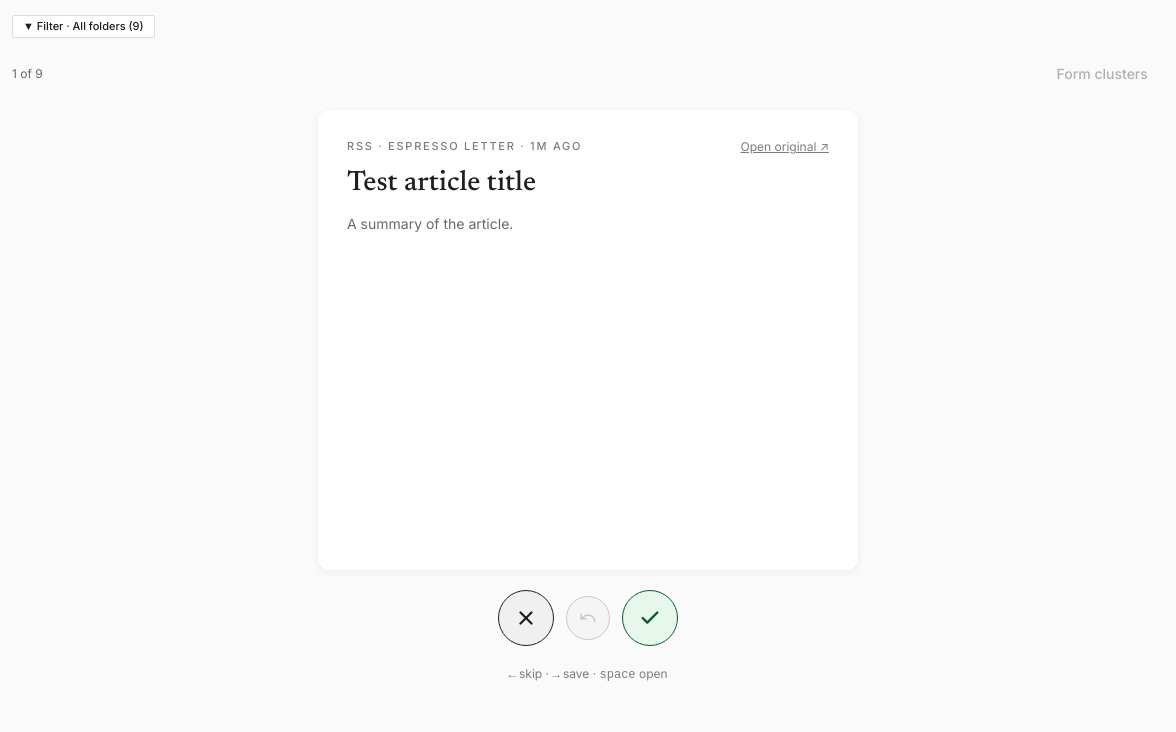
Scenario: ReaderClient - folder filter › shows folder list in popover when Filter button is clicked
The width and height of the screenshot is (1176, 732).
Click the button "▼ Filter · All folders (9)": (83, 27) [12, 15, 155, 38]
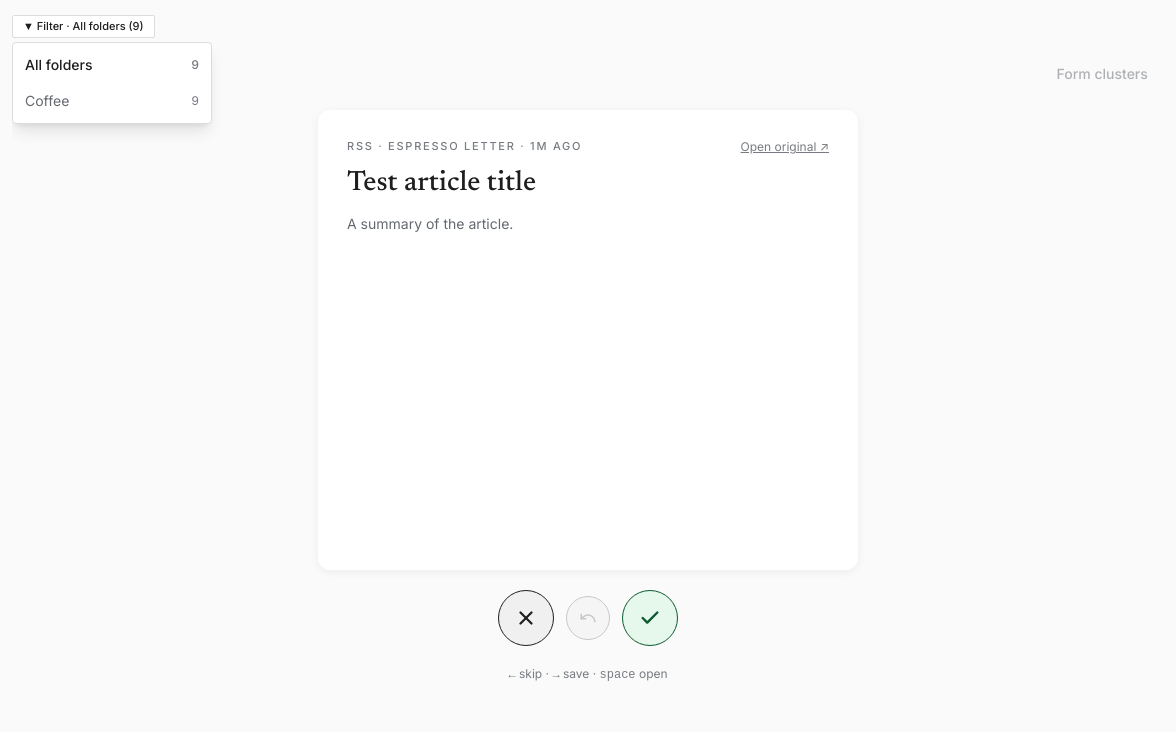
Result: the text "Coffee" is shown at [25, 91, 69, 111]
Result: the text "All folders" is shown at [25, 55, 92, 75]
